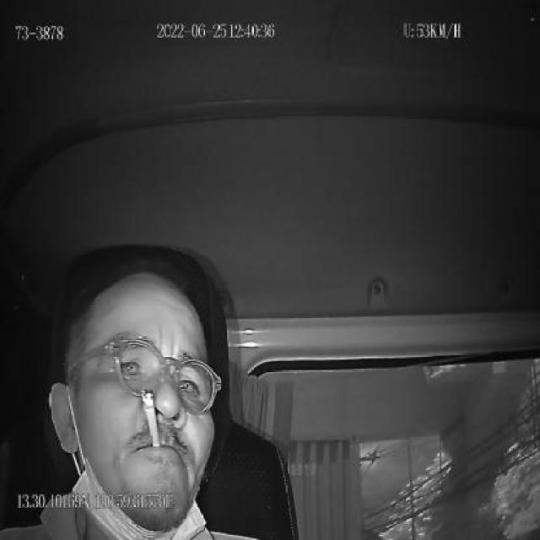smoking: (138, 387, 162, 450)
